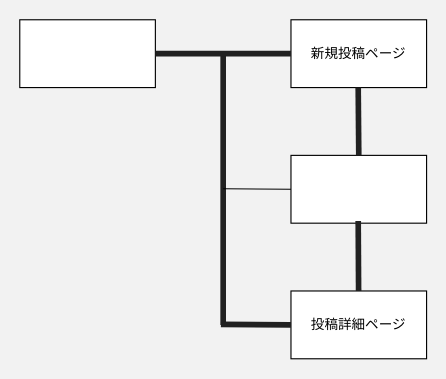
The diagram is 446 pixels wide and 379 high, and some of its shapes have lost their labels. Here are the shapes that lost their labels. From the top down, the box of each, then its label:
(19, 19, 155, 88): ホームページ
(290, 154, 427, 223): ログインページ
